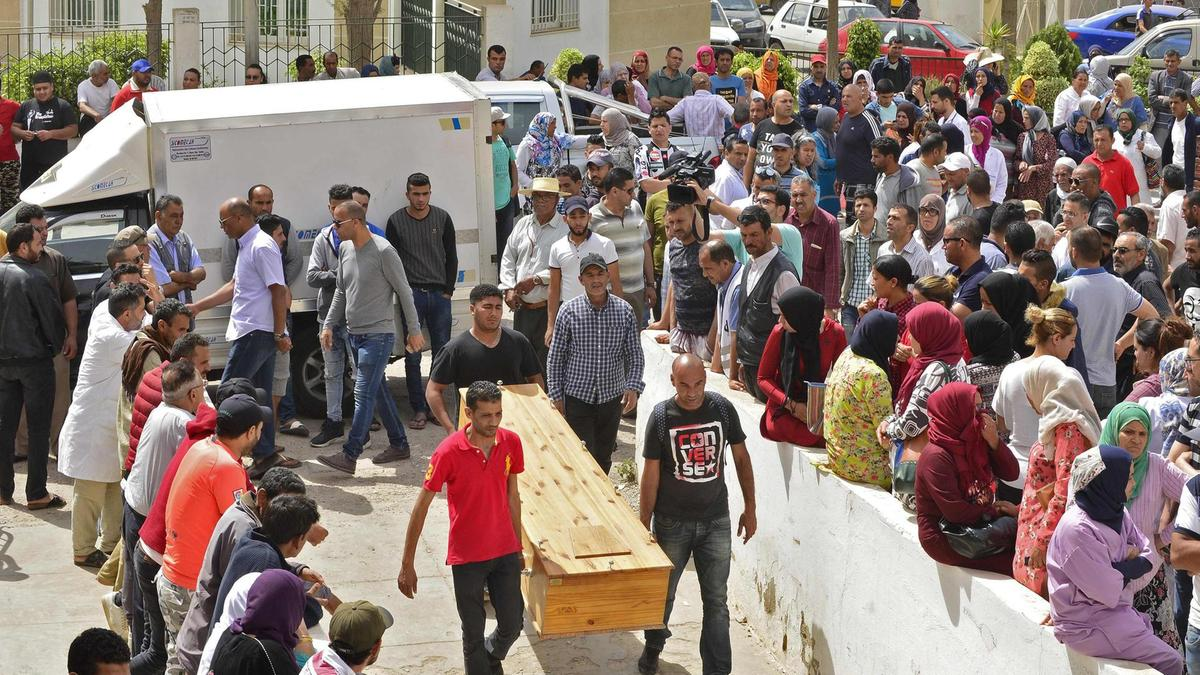person: (1051, 445, 1183, 669), (58, 283, 164, 561), (429, 379, 528, 672), (658, 354, 747, 671), (326, 200, 423, 473), (210, 200, 292, 429), (4, 226, 67, 519), (917, 382, 1014, 568), (563, 253, 630, 466), (755, 290, 840, 451), (1059, 227, 1132, 374), (432, 287, 539, 382), (594, 169, 660, 315), (217, 570, 307, 675), (845, 307, 895, 492), (692, 235, 752, 378), (382, 173, 460, 283), (662, 201, 709, 360), (182, 395, 266, 479), (1018, 367, 1095, 456), (901, 301, 979, 382), (785, 174, 838, 287), (729, 205, 800, 289), (312, 603, 391, 675), (243, 502, 324, 570), (23, 69, 79, 165), (880, 199, 936, 287), (1014, 301, 1087, 366), (1082, 124, 1141, 203), (840, 185, 880, 301), (936, 217, 989, 301), (149, 190, 193, 282), (487, 105, 516, 244), (1106, 398, 1160, 471), (840, 84, 877, 190), (517, 108, 567, 185), (517, 177, 560, 262), (158, 366, 204, 444), (866, 136, 917, 199), (554, 198, 607, 257), (858, 253, 915, 304), (965, 117, 1009, 177), (651, 43, 692, 106), (715, 132, 750, 204), (1020, 106, 1046, 199), (1167, 90, 1197, 170), (151, 299, 196, 352), (799, 53, 837, 107), (1149, 47, 1185, 101), (872, 38, 915, 80), (597, 109, 641, 149), (85, 58, 117, 112), (762, 91, 797, 140), (1056, 64, 1092, 110), (644, 105, 675, 155), (921, 137, 947, 193), (1111, 234, 1145, 273), (125, 57, 160, 93), (477, 43, 511, 80), (758, 138, 798, 169), (927, 89, 960, 125), (966, 71, 993, 115), (1009, 70, 1040, 105), (1106, 77, 1137, 111), (1058, 196, 1092, 225), (583, 149, 609, 186), (756, 49, 780, 88), (811, 108, 839, 139), (1067, 166, 1098, 192), (712, 51, 735, 86), (877, 81, 900, 113), (1050, 157, 1072, 189), (566, 63, 592, 90), (175, 65, 204, 89), (746, 94, 764, 132), (893, 105, 916, 134), (988, 97, 1011, 123), (797, 138, 817, 166), (630, 49, 648, 79), (906, 79, 929, 101), (697, 43, 712, 71), (840, 60, 853, 80)
